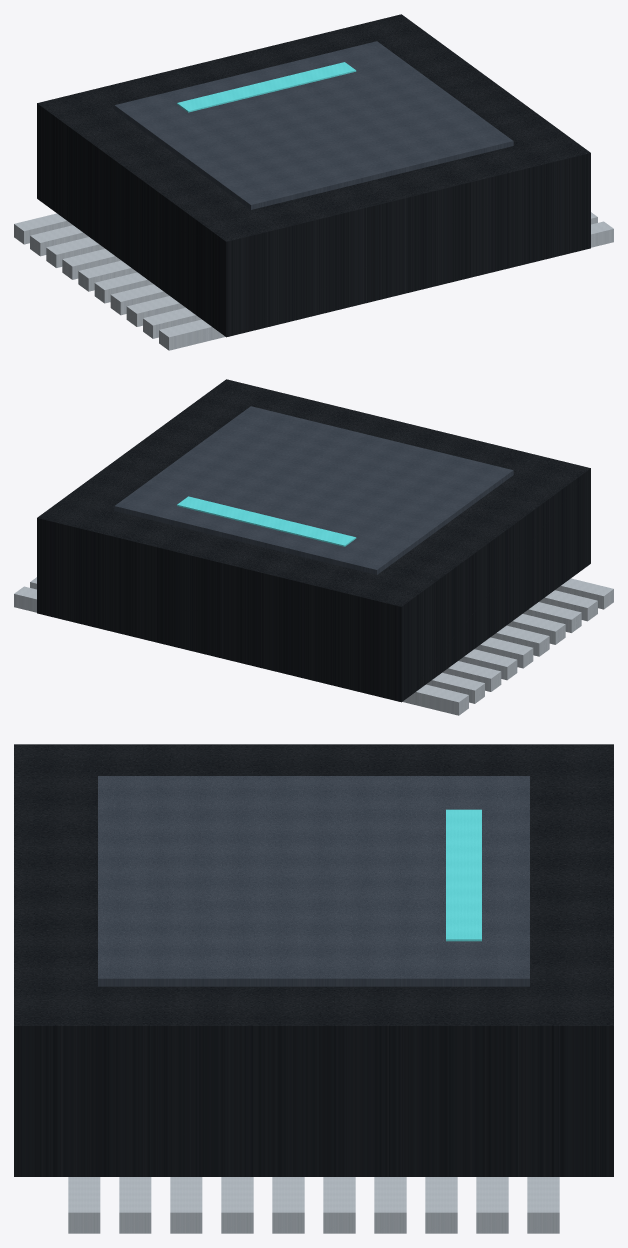
3 renders of one model, top to bottom at view 1: azimuth 30°, elevation 25°; view 2: azimuth 150°, elevation 25°; view 3: azimuth 270°, elevation 25°, orthographic. The views are drawn at different scales.
Visible parts, largest first — view 1: 000_Black_Epoxy__PSMAT__Black_Epoxy, 001_Silicon_Die__PSMAT__Silicon_Die, 002_Silkscreen_Cyan__PSMAT__Silkscreen_Cyan, 022_Solder_Tin__PSMAT__Solder_Tin, 018_Solder_Tin__PSMAT__Solder_Tin, 012_Solder_Tin__PSMAT__Solder_Tin, 014_Solder_Tin__PSMAT__Solder_Tin, 016_Solder_Tin__PSMAT__Solder_Tin, 010_Solder_Tin__PSMAT__Solder_Tin, 006_Solder_Tin__PSMAT__Solder_Tin, 008_Solder_Tin__PSMAT__Solder_Tin, 004_Solder_Tin__PSMAT__Solder_Tin (+2 smaller); view 2: 000_Black_Epoxy__PSMAT__Black_Epoxy, 001_Silicon_Die__PSMAT__Silicon_Die, 002_Silkscreen_Cyan__PSMAT__Silkscreen_Cyan, 004_Solder_Tin__PSMAT__Solder_Tin, 008_Solder_Tin__PSMAT__Solder_Tin, 010_Solder_Tin__PSMAT__Solder_Tin, 012_Solder_Tin__PSMAT__Solder_Tin, 014_Solder_Tin__PSMAT__Solder_Tin, 016_Solder_Tin__PSMAT__Solder_Tin, 020_Solder_Tin__PSMAT__Solder_Tin, 018_Solder_Tin__PSMAT__Solder_Tin, 022_Solder_Tin__PSMAT__Solder_Tin (+2 smaller); view 3: 000_Black_Epoxy__PSMAT__Black_Epoxy, 001_Silicon_Die__PSMAT__Silicon_Die, 002_Silkscreen_Cyan__PSMAT__Silkscreen_Cyan, 003_Solder_Tin__PSMAT__Solder_Tin, 005_Solder_Tin__PSMAT__Solder_Tin, 007_Solder_Tin__PSMAT__Solder_Tin, 009_Solder_Tin__PSMAT__Solder_Tin, 011_Solder_Tin__PSMAT__Solder_Tin, 013_Solder_Tin__PSMAT__Solder_Tin, 015_Solder_Tin__PSMAT__Solder_Tin, 017_Solder_Tin__PSMAT__Solder_Tin, 019_Solder_Tin__PSMAT__Solder_Tin (+1 smaller).
Boxes of the visible parts, x1,y1,x2,y2 form: 000_Black_Epoxy__PSMAT__Black_Epoxy: (37, 14, 590, 337); 001_Silicon_Die__PSMAT__Silicon_Die: (114, 41, 513, 209); 002_Silkscreen_Cyan__PSMAT__Silkscreen_Cyan: (177, 62, 356, 112); 022_Solder_Tin__PSMAT__Solder_Tin: (159, 319, 225, 350); 018_Solder_Tin__PSMAT__Solder_Tin: (126, 296, 185, 326); 012_Solder_Tin__PSMAT__Solder_Tin: (78, 260, 136, 291); 014_Solder_Tin__PSMAT__Solder_Tin: (94, 272, 153, 303); 016_Solder_Tin__PSMAT__Solder_Tin: (110, 284, 169, 315); 010_Solder_Tin__PSMAT__Solder_Tin: (62, 249, 120, 279); 006_Solder_Tin__PSMAT__Solder_Tin: (30, 225, 88, 256); 008_Solder_Tin__PSMAT__Solder_Tin: (46, 237, 104, 267); 004_Solder_Tin__PSMAT__Solder_Tin: (14, 213, 72, 244); 000_Black_Epoxy__PSMAT__Black_Epoxy: (37, 379, 590, 702); 001_Silicon_Die__PSMAT__Silicon_Die: (114, 406, 513, 574); 002_Silkscreen_Cyan__PSMAT__Silkscreen_Cyan: (177, 496, 356, 546); 004_Solder_Tin__PSMAT__Solder_Tin: (402, 684, 468, 715); 008_Solder_Tin__PSMAT__Solder_Tin: (442, 661, 501, 691); 010_Solder_Tin__PSMAT__Solder_Tin: (458, 649, 517, 680); 012_Solder_Tin__PSMAT__Solder_Tin: (474, 637, 533, 668); 014_Solder_Tin__PSMAT__Solder_Tin: (491, 625, 549, 656); 016_Solder_Tin__PSMAT__Solder_Tin: (507, 614, 565, 644); 020_Solder_Tin__PSMAT__Solder_Tin: (539, 590, 597, 621); 018_Solder_Tin__PSMAT__Solder_Tin: (523, 602, 581, 632); 022_Solder_Tin__PSMAT__Solder_Tin: (555, 578, 613, 609); 000_Black_Epoxy__PSMAT__Black_Epoxy: (14, 744, 613, 1176); 001_Silicon_Die__PSMAT__Silicon_Die: (98, 776, 529, 986); 002_Silkscreen_Cyan__PSMAT__Silkscreen_Cyan: (446, 809, 481, 941); 003_Solder_Tin__PSMAT__Solder_Tin: (527, 1177, 559, 1233); 005_Solder_Tin__PSMAT__Solder_Tin: (476, 1177, 508, 1233); 007_Solder_Tin__PSMAT__Solder_Tin: (425, 1177, 457, 1233); 009_Solder_Tin__PSMAT__Solder_Tin: (374, 1177, 406, 1233); 011_Solder_Tin__PSMAT__Solder_Tin: (323, 1177, 355, 1233); 013_Solder_Tin__PSMAT__Solder_Tin: (272, 1177, 304, 1233); 015_Solder_Tin__PSMAT__Solder_Tin: (221, 1177, 253, 1233); 017_Solder_Tin__PSMAT__Solder_Tin: (170, 1177, 202, 1233); 019_Solder_Tin__PSMAT__Solder_Tin: (119, 1177, 151, 1233).
Bounding box in the file's own units: 0.0122 × 0.0031 × 0.009.
4 materials, 4 textured.
